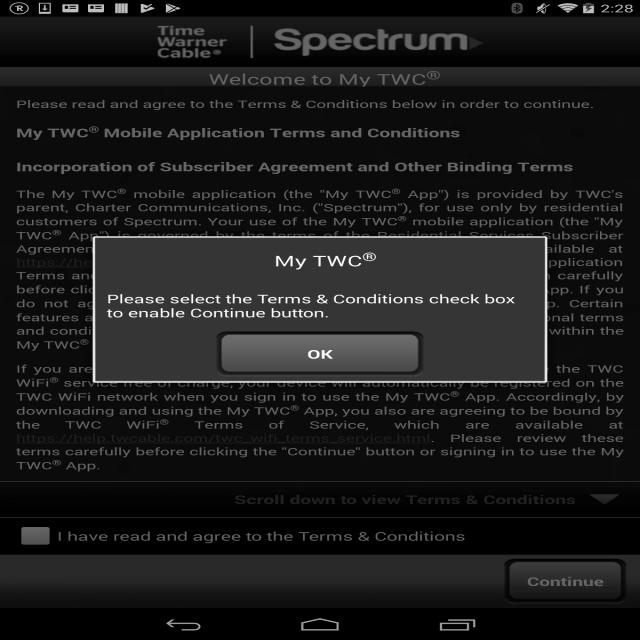Button: (212, 331, 429, 377), (501, 554, 630, 605)
CheckBox: (14, 523, 55, 547)
TextView: (16, 392, 626, 461), (17, 187, 625, 228), (106, 290, 522, 319), (16, 120, 463, 143), (266, 22, 464, 59), (59, 528, 467, 544), (206, 72, 436, 88), (146, 23, 230, 61), (272, 249, 379, 269)
